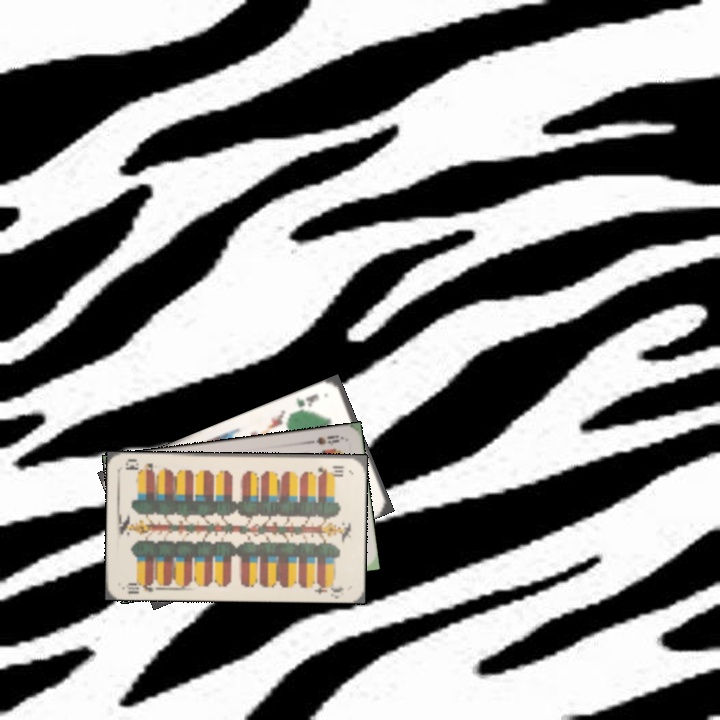E10: (120, 576, 160, 596), (314, 461, 346, 477)
GK: (292, 390, 321, 415)
S8: (306, 431, 346, 448)
